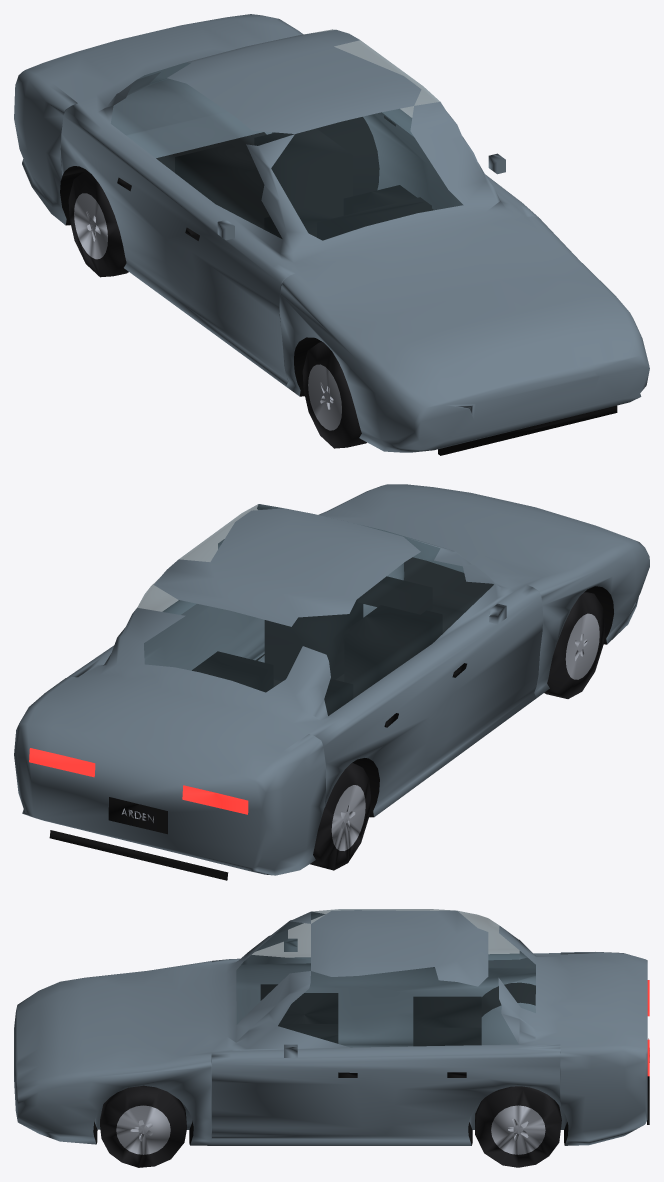
The model's file is arden_civic_lod1.glb.
3 views of the same model, one above another, from view 1: azimuth 30°, elevation 25°; view 2: azimuth 150°, elevation 25°; view 3: azimuth 270°, elevation 25° (orthographic). The views are drawn at different scales.
Visible parts, largest first — view 1: arden_civic_lod1; view 2: arden_civic_lod1; view 3: arden_civic_lod1.
Part boxes in pixels (<box>): arden_civic_lod1: <box>14,14,649,455</box>; arden_civic_lod1: <box>14,484,649,880</box>; arden_civic_lod1: <box>14,909,649,1167</box>.
Size of the model in its own units: 1.9 by 1.45 by 4.67.
